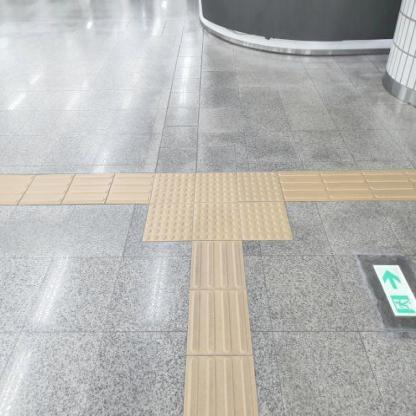podotacti: (126, 147, 312, 272), (184, 244, 256, 414), (0, 172, 149, 206), (288, 170, 416, 203)
